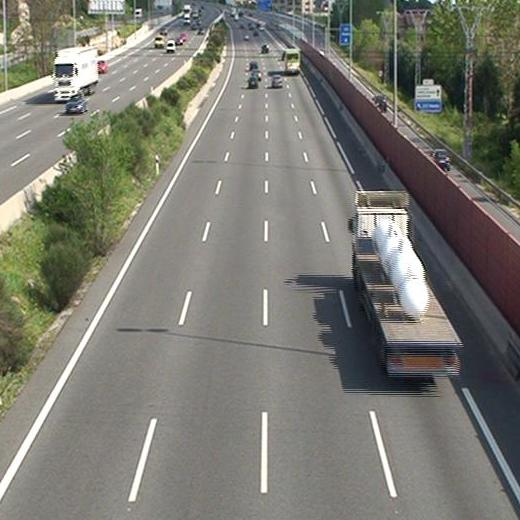bus: (284, 48, 299, 74)
car: (270, 75, 283, 87), (260, 43, 271, 56), (247, 76, 258, 86), (247, 61, 257, 71)
truck: (347, 187, 465, 379)
